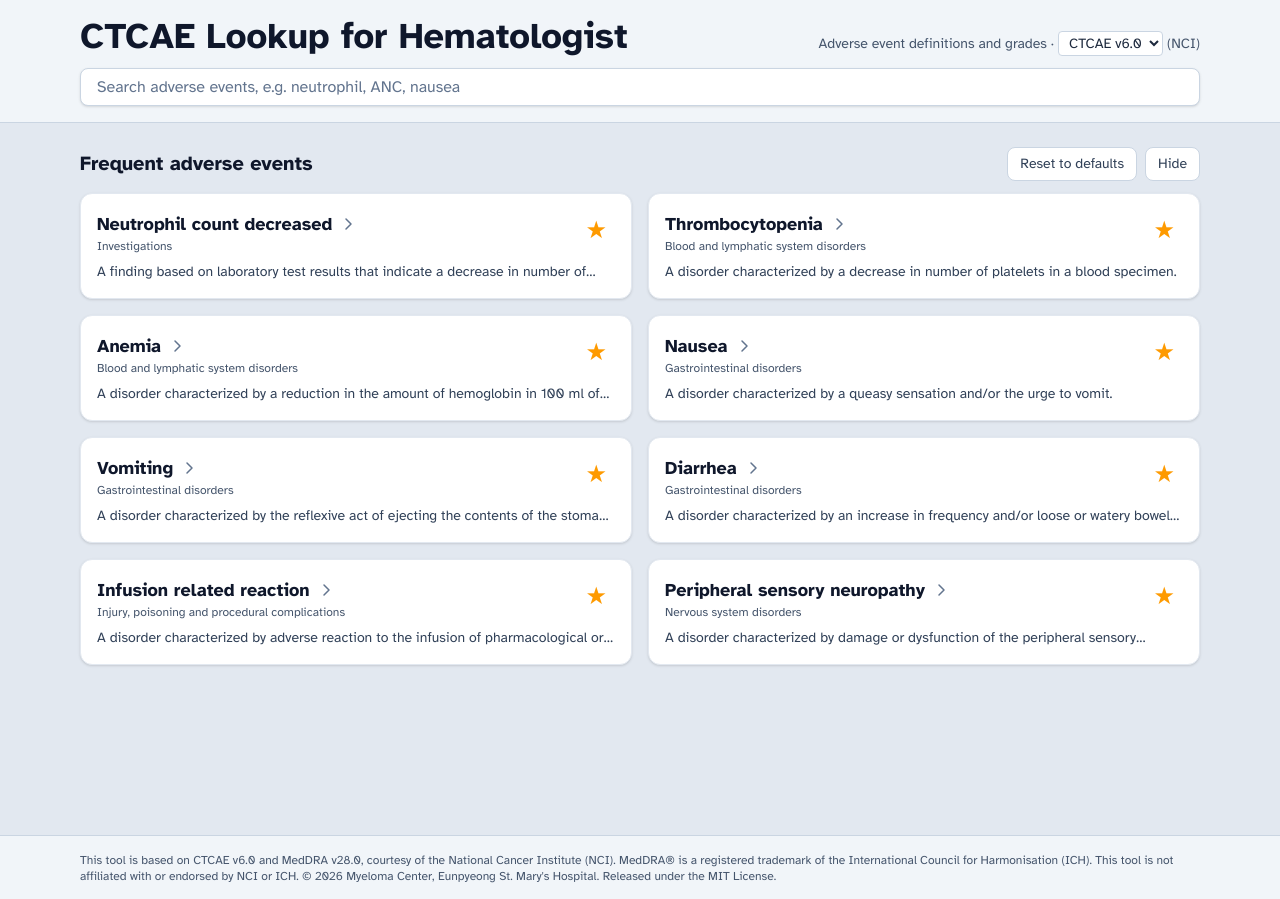
Test: selecting a suggestion records it as a recent search
The width and height of the screenshot is (1280, 899).
Type "mucos" into the dropdown labelled "Search adverse events" at (640, 87), box x1=80 y1=68 x2=1200 y2=106
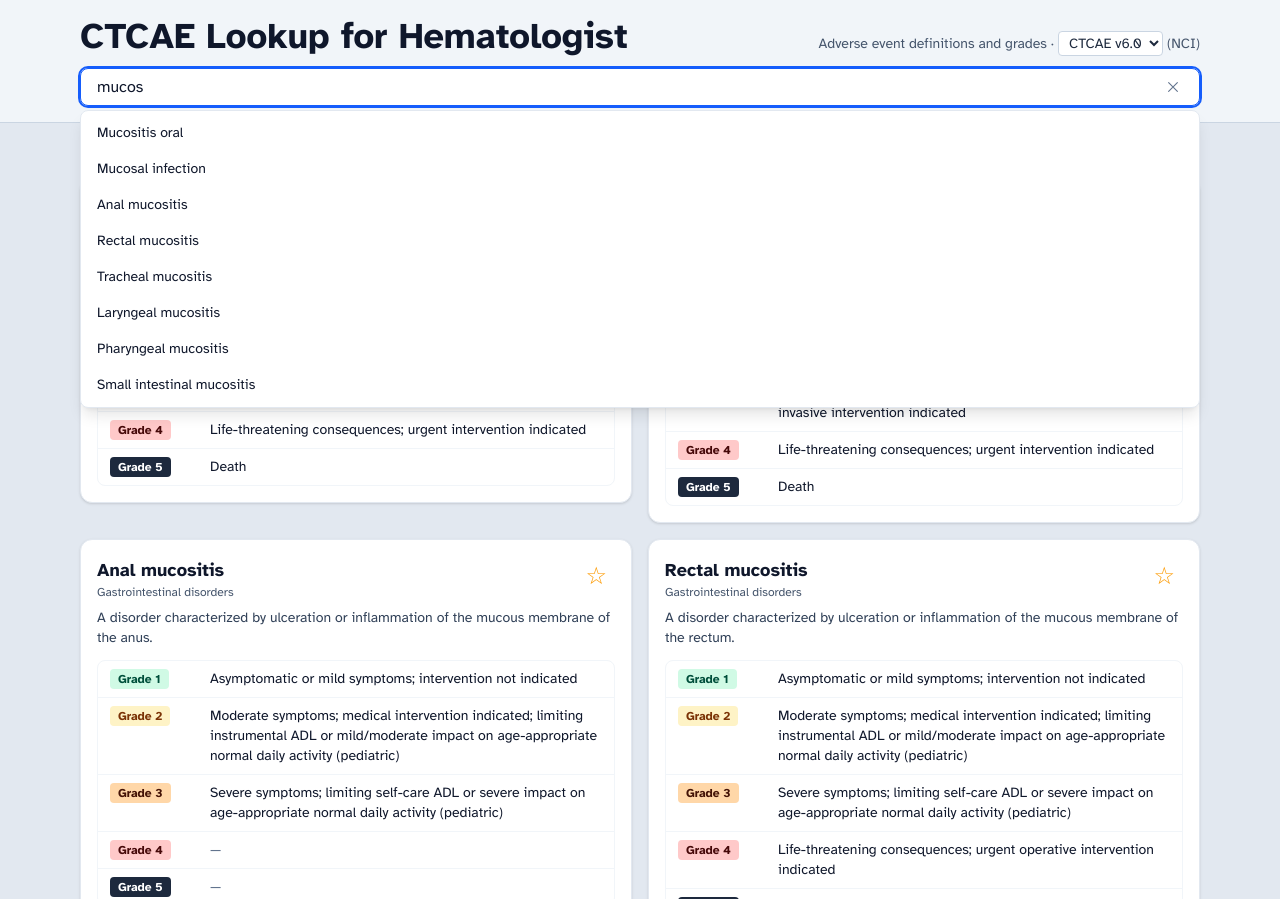
Click the option "Mucositis oral" at (140, 132), box x1=97 y1=124 x2=183 y2=141
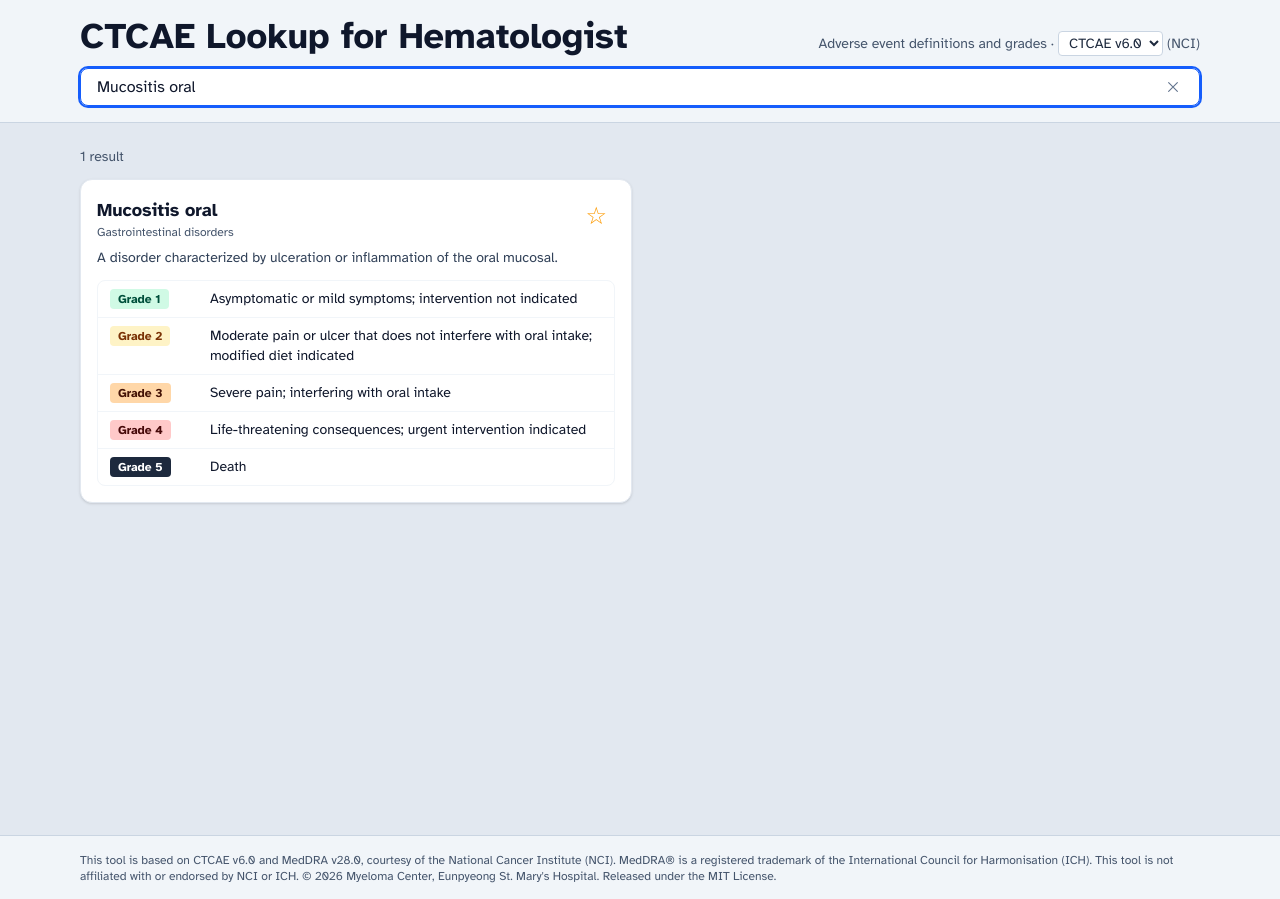
Expected: the heading "Mucositis oral" is shown, x1=97 y1=196 x2=234 y2=224
Expected: the dropdown named "Search adverse events" holds "Mucositis oral", x1=80 y1=68 x2=1200 y2=106
